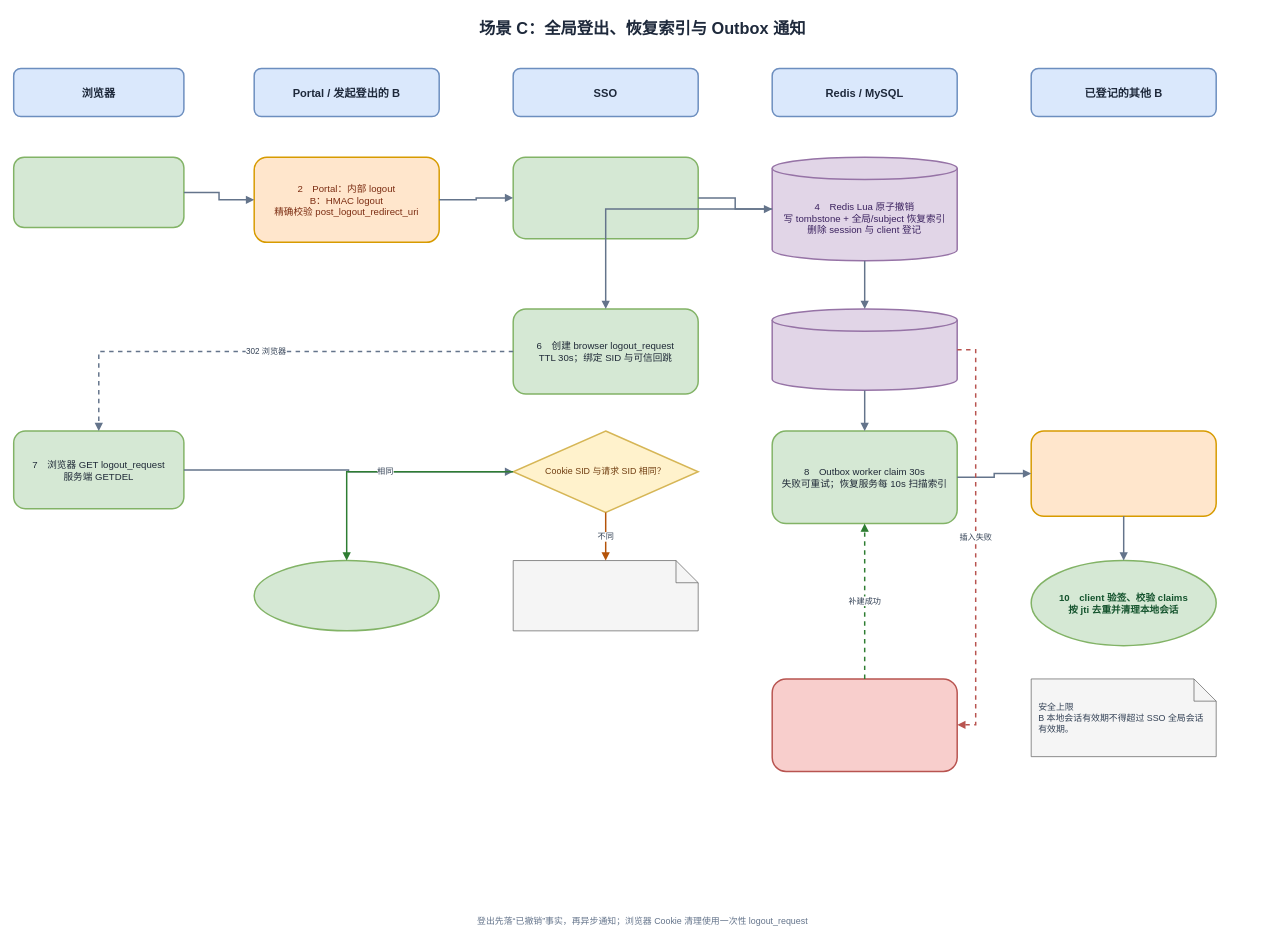
The diagram is 1273 pixels wide and 942 high, and some of its shapes have lost their labels. Each missing label, with the centre of its shape:
"1 用户发起退出 携带当前本地会话 / SID" belongs at [98,192].
"3 校验调用方是否拥有 SID 解析 subject 与已登记 clients" belongs at [605,197].
"5 为目标 client 写 MySQL outbox 同一 jti 可重复签名发送" belongs at [864,349].
"9 签名 logout_token 回调 client 的 back-channel endpoint" belongs at [1123,473].
"Outbox 插入失败时 撤销事实仍由 Redis tombstone / 恢复索引保留；恢复服务补建通知。" belongs at [864,725].
"不清除较新的 Cookie 仍只跳回可信地址" belongs at [605,595].
"清除 SSO_SID 跳回精确校验后的地址" belongs at [346,595].
